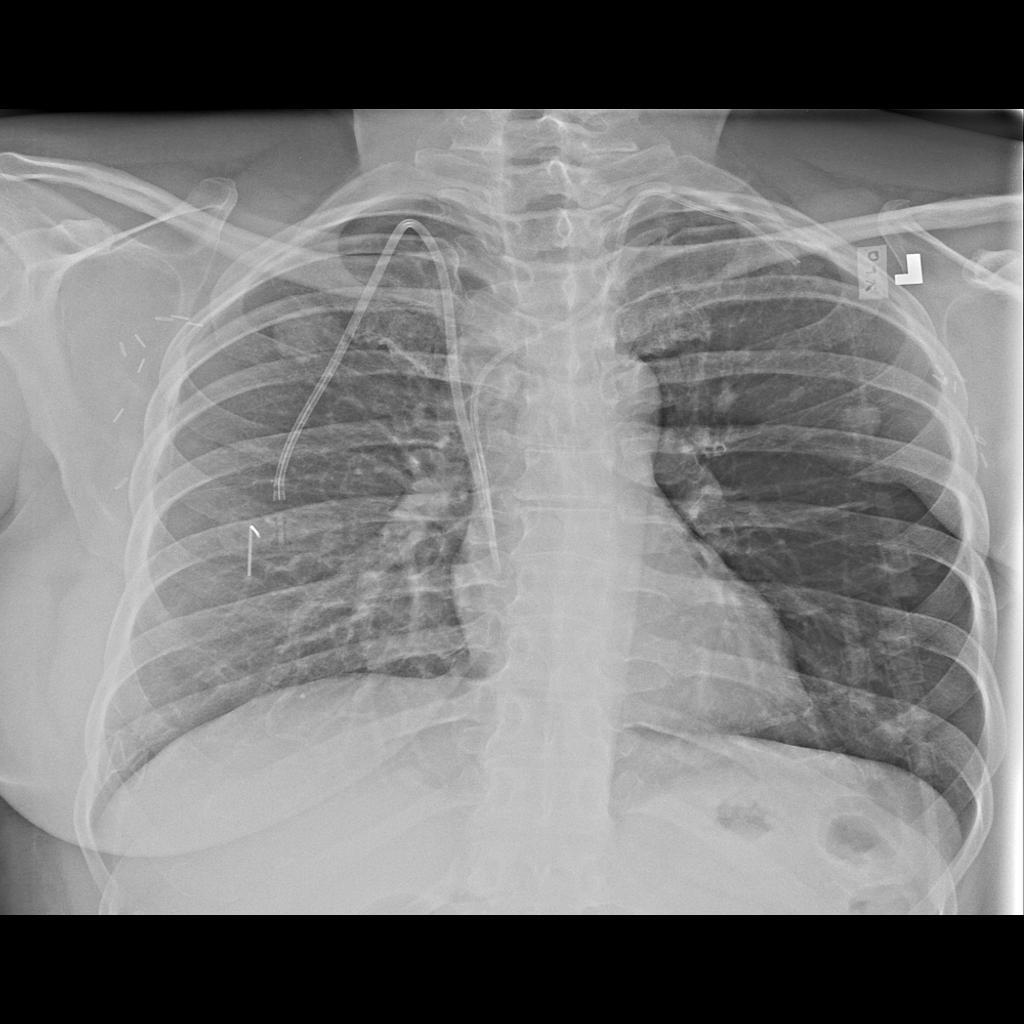Nodule: (274, 295, 351, 370)
